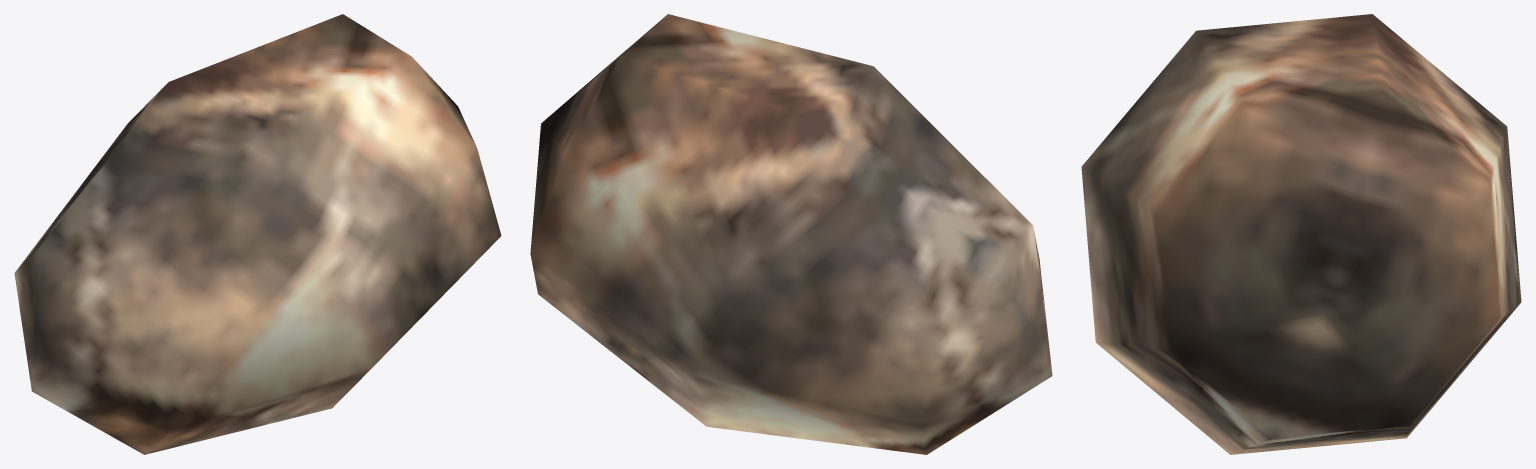
3 renders of one model, left to right at view 1: azimuth 30°, elevation 25°; view 2: azimuth 150°, elevation 25°; view 3: azimuth 270°, elevation 25°, orthographic. The views are drawn at different scales.
Parts seen in each view (by area): view 1: m_nb_0001_none; view 2: m_nb_0001_none; view 3: m_nb_0001_none.
Part boxes in pixels (<box>): m_nb_0001_none: <box>14,14,501,454</box>; m_nb_0001_none: <box>530,14,1052,454</box>; m_nb_0001_none: <box>1081,14,1521,454</box>.
Size of the model in its own units: 33.31 by 23.03 by 22.75.
Materials: 1 (1 with a texture image).
